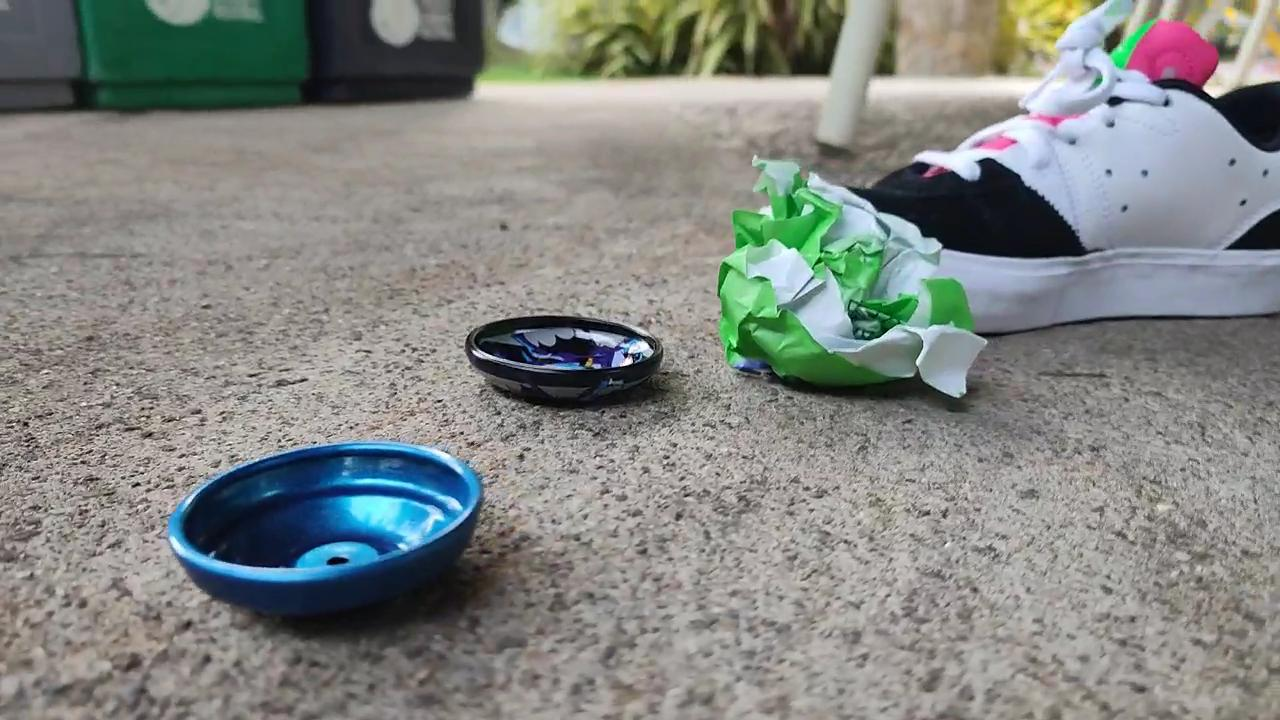Paper: (712, 145, 994, 414)
